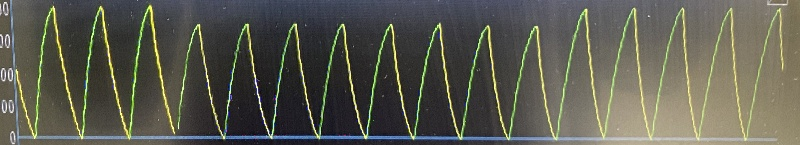normal_volume: (21, 16, 761, 143)
